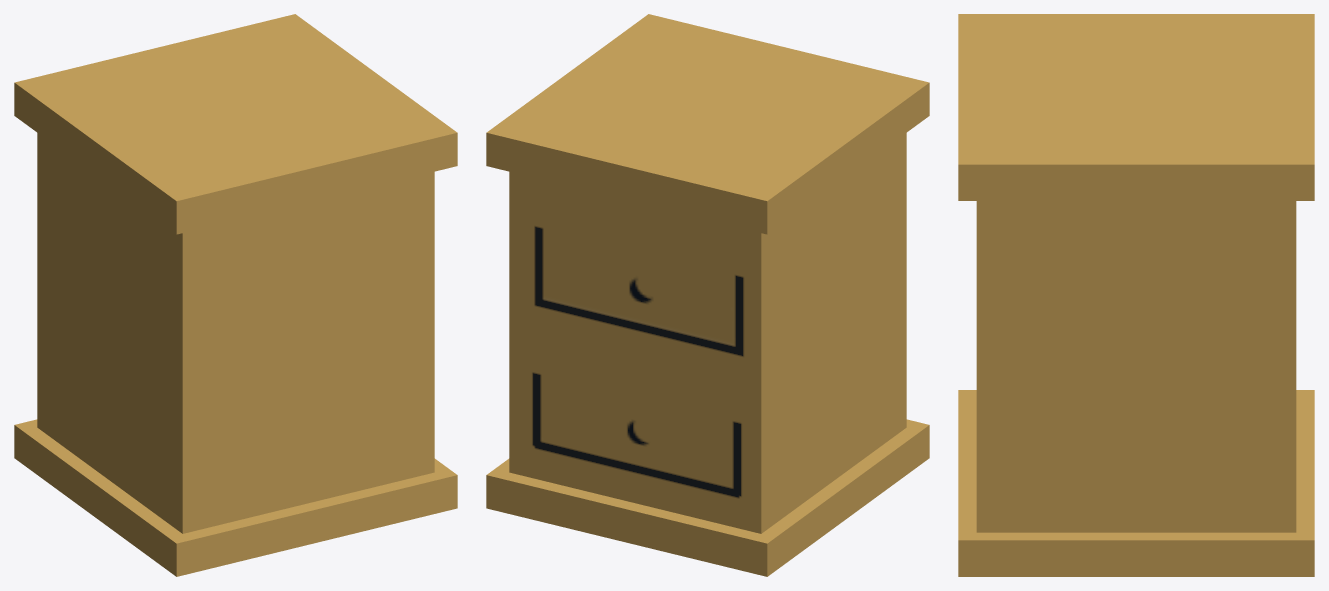
File: table_Nuit.FBX
3 views of the same model, side by side, from view 1: azimuth 30°, elevation 25°; view 2: azimuth 150°, elevation 25°; view 3: azimuth 270°, elevation 25° (orthographic). The views are drawn at different scales.
Visible parts, largest first — view 1: Table_Nuit; view 2: Table_Nuit; view 3: Table_Nuit.
Part boxes in pixels (left/top/right/bottom): Table_Nuit: left=14, top=14, right=457, bottom=576; Table_Nuit: left=486, top=14, right=929, bottom=576; Table_Nuit: left=958, top=14, right=1314, bottom=576.
Size of the model in its own units: 0.5 by 0.6389 by 0.5.
